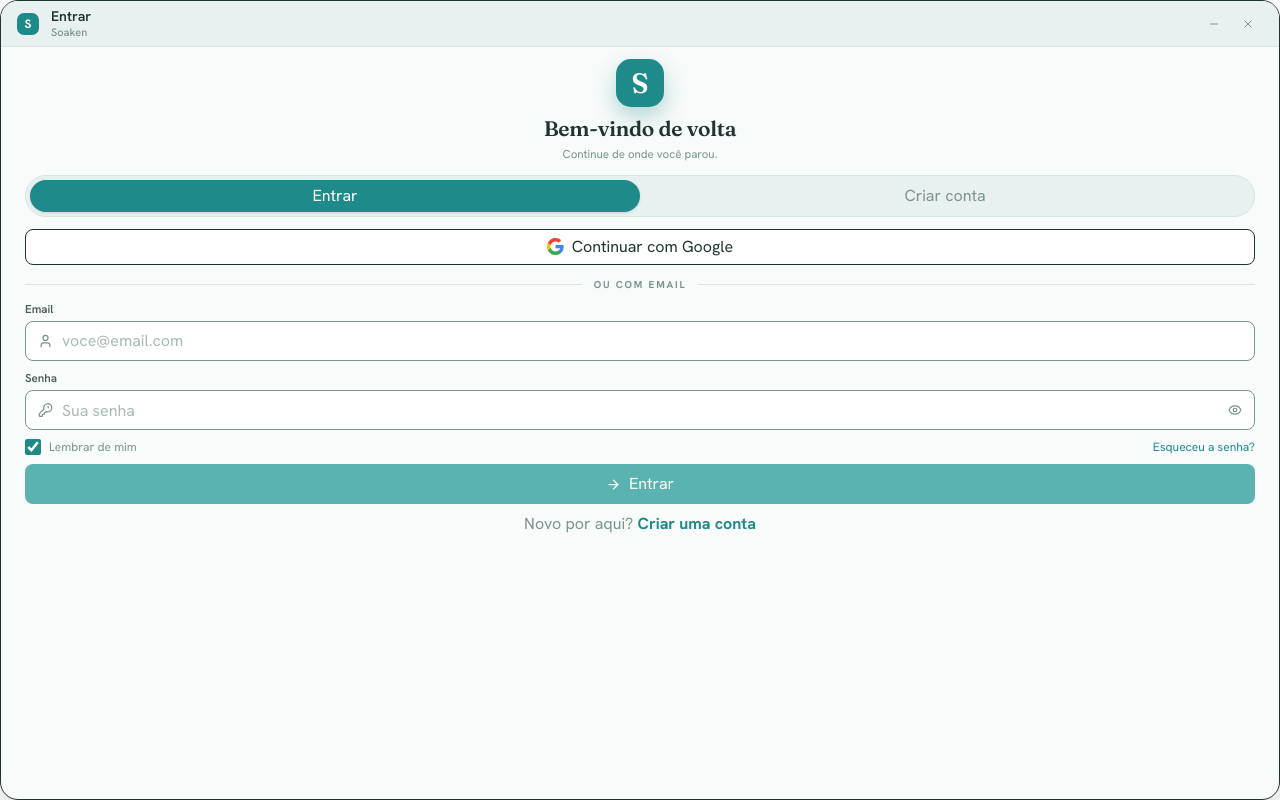
Test: Auth window › bloqueia Google no cadastro ate aceitar os termos
The image size is (1280, 800).
Click the button "Criar conta" at [945, 196], box [640,180,1250,212]
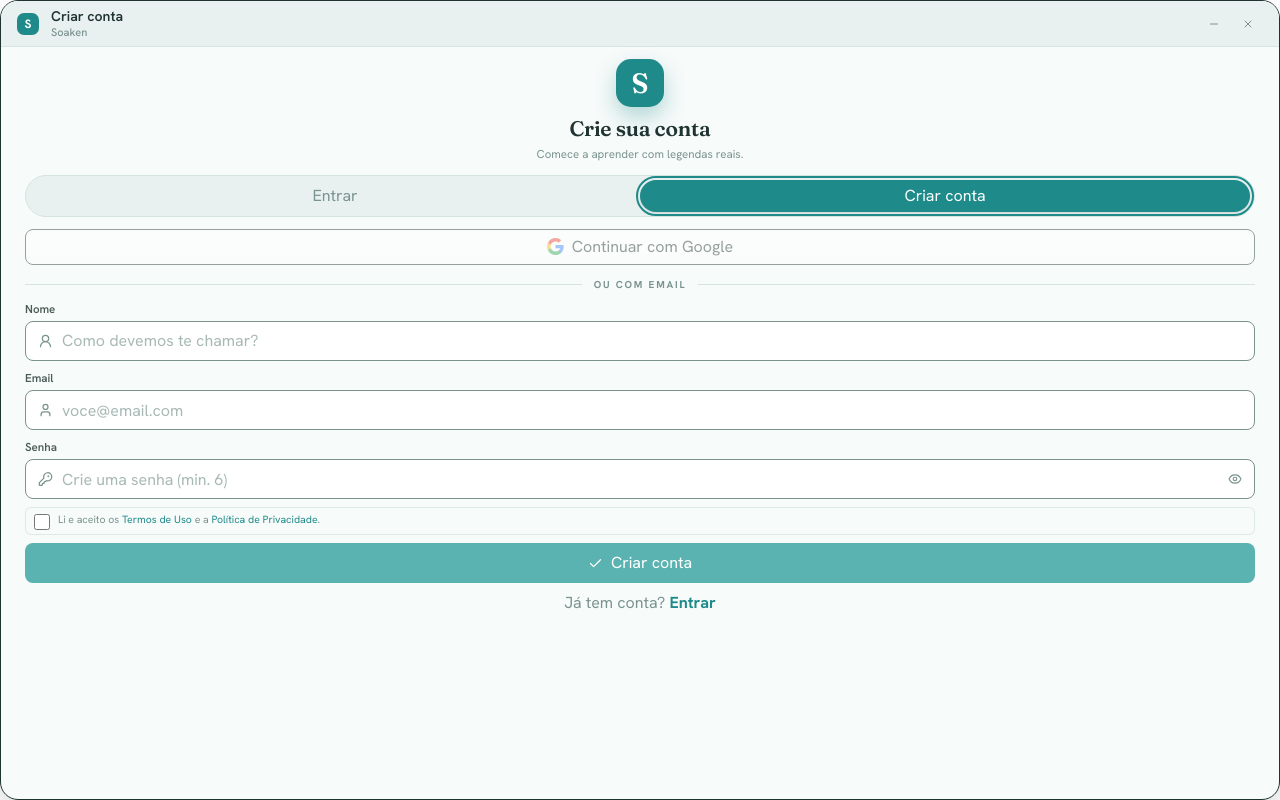
Result: the button "Continuar com Google" is disabled at [25,228,1255,264]
Click the checkbox labelled "Li e aceito os Termos de Uso e a Política de Privacidade ." at [42, 522], box [34,514,50,530]
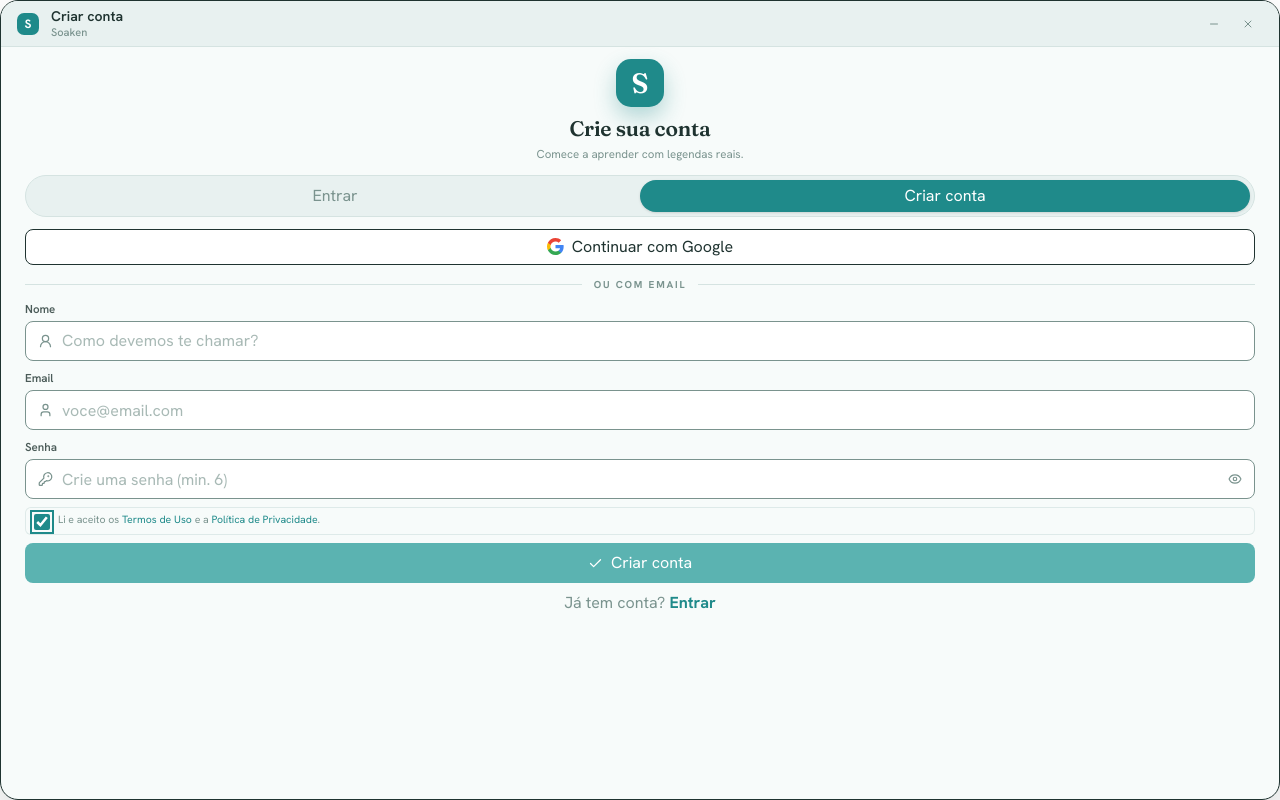
Result: the button "Continuar com Google" is enabled at [25,228,1255,264]
